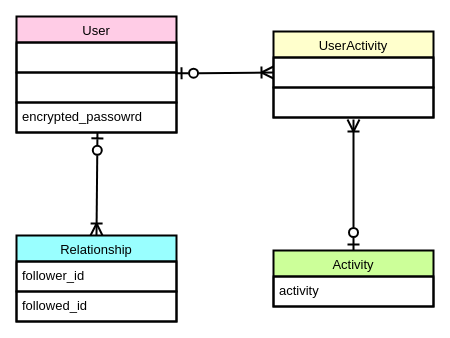
The diagram is 450 pixels wide and 338 high, and some of its shapes have lost their labels. Each missing label, with the centre of its shape:
activity_id: point (353, 102)
email: point (96, 87)
user_id: point (353, 72)
user_name: point (96, 57)
